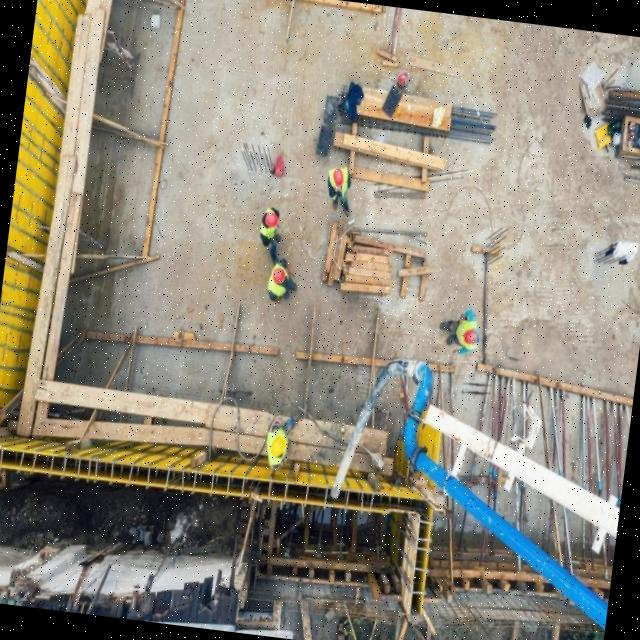Helmet: (270, 438, 288, 459), (264, 212, 280, 229), (333, 169, 345, 189), (273, 269, 287, 285), (464, 330, 478, 345)
